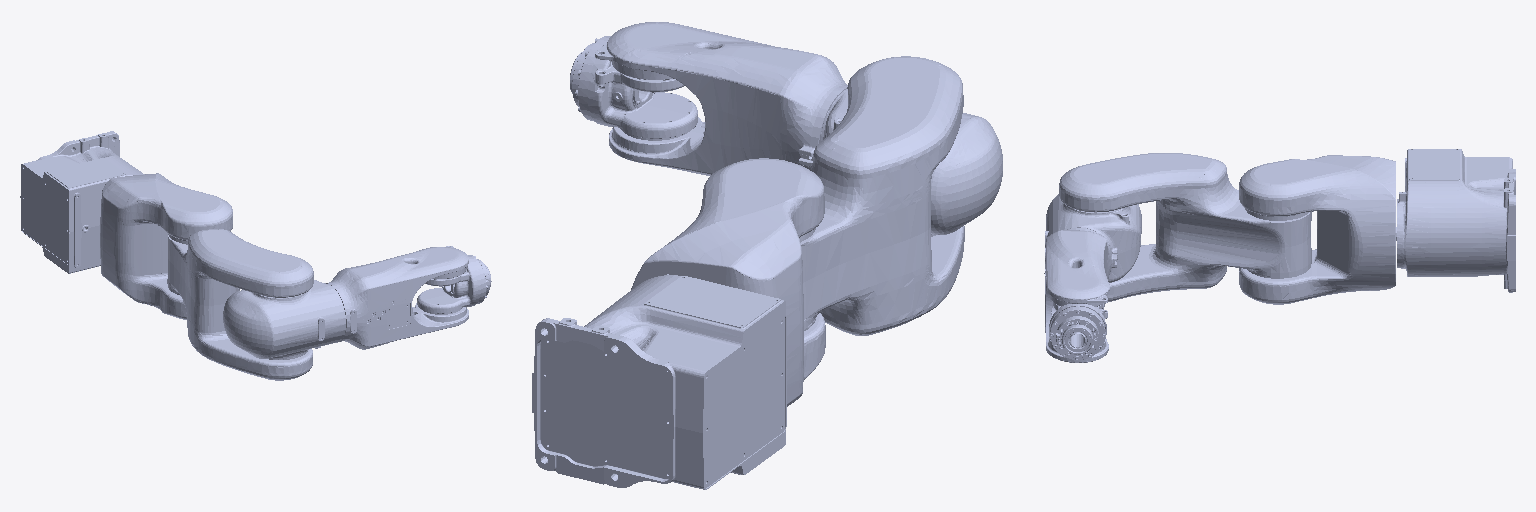
URDF robot description (pznachi):
<robot name="pznachi">
  <link name="Base_Link">
    <inertial>
      <origin xyz="-0.044712 -0.085819 -3.1195E-05" rpy="0 0 0" />
      <mass value="3.5167" />
      <inertia
        ixx="0.012401"
        ixy="0.00014279"
        ixz="4.9087E-06"
        iyy="0.013473"
        iyz="1.7125E-05"
        izz="0.015621" />
    </inertial>
    <visual>
      <origin xyz="0 0 0" rpy="0 0 0" />
      <geometry>
        <mesh filename="meshes/Base_Link.STL" />
      </geometry>
      <material name="">
        <color rgba="0.79216 0.81961 0.93333 1" />
      </material>
    </visual>
    <collision>
      <origin xyz="0 0 0" rpy="0 0 0" />
      <geometry>
        <mesh filename="meshes/Base_Link.STL" />
      </geometry>
    </collision>
  </link>
  <link name="Link1">
    <inertial>
      <origin xyz="-0.019704 0.00089628 0.11902" rpy="0 0 0" />
      <mass value="3.2922" />
      <inertia
        ixx="0.022238"
        ixy="-5.8161E-05"
        ixz="-0.0017628"
        iyy="0.01542"
        iyz="-0.00024604"
        izz="0.01508" />
    </inertial>
    <visual>
      <origin xyz="0 0 0" rpy="0 0 0" />
      <geometry>
        <mesh filename="meshes/Link1.STL" />
      </geometry>
      <material name="">
        <color rgba="0.79216 0.81961 0.93333 1" />
      </material>
    </visual>
    <collision>
      <origin
        xyz="0 0 0"
        rpy="0 0 0" />
      <geometry>
        <mesh
          filename="meshes/Link1.STL" />
      </geometry>
    </collision>
  </link>
  <joint
    name="J1"
    type="revolute">
    <origin
      xyz="0 -0.13764 0"
      rpy="1.5708 0.0078414 -4.8014E-19" />
    <parent
      link="Base_Link" />
    <child
      link="Link1" />
    <axis
      xyz="0 0 1" />
    <limit
      effort="0"
      velocity="0" />
  </joint>
  <link
    name="Link2">
    <inertial>
      <origin
        xyz="-0.022938 -0.00078377 0.12952"
        rpy="0 0 0" />
      <mass
        value="3.4347" />
      <inertia
        ixx="0.037509"
        ixy="6.1064E-05"
        ixz="0.00056234"
        iyy="0.030167"
        iyz="-0.00038733"
        izz="0.014052" />
    </inertial>
    <visual>
      <origin
        xyz="0 0 0"
        rpy="0 0 0" />
      <geometry>
        <mesh
          filename="meshes/Link2.STL" />
      </geometry>
      <material
        name="">
        <color
          rgba="0.79216 0.81961 0.93333 1" />
      </material>
    </visual>
    <collision>
      <origin
        xyz="0 0 0"
        rpy="0 0 0" />
      <geometry>
        <mesh
          filename="meshes/Link2.STL" />
      </geometry>
    </collision>
  </link>
  <joint
    name="J2"
    type="revolute">
    <origin
      xyz="0 0 0.20236"
      rpy="0 0 8.3267E-17" />
    <parent
      link="Link1" />
    <child
      link="Link2" />
    <axis
      xyz="0 1 0" />
    <limit
      effort="0"
      velocity="0" />
  </joint>
  <link
    name="Link3">
    <inertial>
      <origin
        xyz="-0.00019106 -0.000236 0.005569"
        rpy="0 0 0" />
      <mass
        value="1.7565" />
      <inertia
        ixx="0.0032287"
        ixy="7.0475E-06"
        ixz="-0.00027822"
        iyy="0.0052787"
        iyz="8.3236E-07"
        izz="0.0045758" />
    </inertial>
    <visual>
      <origin
        xyz="0 0 0"
        rpy="0 0 0" />
      <geometry>
        <mesh
          filename="meshes/Link3.STL" />
      </geometry>
      <material
        name="">
        <color
          rgba="0.79216 0.81961 0.93333 1" />
      </material>
    </visual>
    <collision>
      <origin
        xyz="0 0 0"
        rpy="0 0 0" />
      <geometry>
        <mesh
          filename="meshes/Link3.STL" />
      </geometry>
    </collision>
  </link>
  <joint
    name="J3"
    type="revolute">
    <origin
      xyz="0 0 0.26"
      rpy="0 -0.0069156 3.5505E-08" />
    <parent
      link="Link2" />
    <child
      link="Link3" />
    <axis
      xyz="0 1 0" />
    <limit
      effort="0"
      velocity="0" />
  </joint>
  <link
    name="Link4">
    <inertial>
      <origin
        xyz="0.097971 9.4676E-05 0.0031244"
        rpy="0 0 0" />
      <mass
        value="1.6439" />
      <inertia
        ixx="0.0030774"
        ixy="-1.5251E-05"
        ixz="5.8138E-05"
        iyy="0.0070292"
        iyz="3.7117E-07"
        izz="0.00829" />
    </inertial>
    <visual>
      <origin
        xyz="0 0 0"
        rpy="0 0 0" />
      <geometry>
        <mesh
          filename="meshes/Link4.STL" />
      </geometry>
      <material
        name="">
        <color
          rgba="0.79216 0.81961 0.93333 1" />
      </material>
    </visual>
    <collision>
      <origin
        xyz="0 0 0"
        rpy="0 0 0" />
      <geometry>
        <mesh
          filename="meshes/Link4.STL" />
      </geometry>
    </collision>
  </link>
  <joint
    name="J4"
    type="revolute">
    <origin
      xyz="0.079383 0 0.025"
      rpy="-0.019365 1.4745E-17 6.5226E-16" />
    <parent
      link="Link3" />
    <child
      link="Link4" />
    <axis
      xyz="1 0 0" />
    <limit
      effort="0"
      velocity="0" />
  </joint>
  <link
    name="Link5">
    <inertial>
      <origin
        xyz="0.020403 -0.0026384 -6.1975E-05"
        rpy="0 0 0" />
      <mass
        value="0.32675" />
      <inertia
        ixx="0.00031814"
        ixy="-2.4055E-05"
        ixz="2.2149E-07"
        iyy="0.00034511"
        iyz="6.3733E-07"
        izz="0.00043062" />
    </inertial>
    <visual>
      <origin
        xyz="0 0 0"
        rpy="0 0 0" />
      <geometry>
        <mesh
          filename="meshes/Link5.STL" />
      </geometry>
      <material
        name="">
        <color
          rgba="0.79216 0.81961 0.93333 1" />
      </material>
    </visual>
    <collision>
      <origin
        xyz="0 0 0"
        rpy="0 0 0" />
      <geometry>
        <mesh
          filename="meshes/Link5.STL" />
      </geometry>
    </collision>
  </link>
  <joint
    name="J5"
    type="revolute">
    <origin
      xyz="0.20062 0 0"
      rpy="-6.9389E-18 0.0018264 -1.3849E-15" />
    <parent
      link="Link4" />
    <child
      link="Link5" />
    <axis
      xyz="0 1 0" />
    <limit
      effort="0"
      velocity="0" />
  </joint>
  <link
    name="Link6">
    <inertial>
      <origin
        xyz="0.0072821 -5.8253E-05 -0.00022338"
        rpy="0 0 0" />
      <mass
        value="0.031021" />
      <inertia
        ixx="1.5737E-05"
        ixy="6.2399E-10"
        ixz="1.1782E-09"
        iyy="8.4458E-06"
        iyz="8.8516E-08"
        izz="8.6667E-06" />
    </inertial>
    <visual>
      <origin
        xyz="0 0 0"
        rpy="0 0 0" />
      <geometry>
        <mesh
          filename="meshes/Link6.STL" />
      </geometry>
      <material
        name="">
        <color
          rgba="0.79216 0.81961 0.93333 1" />
      </material>
    </visual>
    <collision>
      <origin
        xyz="0 0 0"
        rpy="0 0 0" />
      <geometry>
        <mesh
          filename="meshes/Link6.STL" />
      </geometry>
    </collision>
  </link>
  <joint
    name="J6"
    type="revolute">
    <origin
      xyz="0.061686 0.0011 0"
      rpy="0.019384 -2.5153E-17 1.8801E-15" />
    <parent
      link="Link5" />
    <child
      link="Link6" />
    <axis
      xyz="1 0 0" />
    <limit
      effort="0"
      velocity="0" />
  </joint>
</robot>

--- What the picture shows (computed from the rendered views, not written in the file) ---
3 views of the same robot in one strip: view 1: azimuth 30°, elevation 25°; view 2: azimuth 150°, elevation 25°; view 3: azimuth 270°, elevation 25° (orthographic).
Model pznachi with 7 links and 6 joints (6 revolute), rooted at Base_Link, posed all joints at 0.
Visible links, largest first — view 1: Link2, Link1, Base_Link, Link4, Link3, Link5; view 2: Base_Link, Link2, Link4, Link1, Link5, Link3; view 3: Link2, Link1, Base_Link, Link4, Link3, Link5, Link6.
Link boxes in pixels (bbox=[...]): Link2: bbox=[167, 229, 313, 380]; Link1: bbox=[100, 173, 232, 319]; Base_Link: bbox=[20, 131, 144, 273]; Link4: bbox=[326, 246, 468, 349]; Link3: bbox=[223, 280, 345, 359]; Link5: bbox=[417, 255, 487, 314]; Base_Link: bbox=[532, 274, 787, 489]; Link2: bbox=[801, 56, 964, 335]; Link4: bbox=[595, 22, 847, 175]; Link1: bbox=[631, 158, 825, 406]; Link5: bbox=[575, 36, 697, 140]; Link3: bbox=[819, 89, 1002, 236]; Link2: bbox=[1059, 153, 1311, 302]; Link1: bbox=[1239, 155, 1395, 304]; Base_Link: bbox=[1396, 149, 1515, 292]; Link4: bbox=[1044, 228, 1116, 362]; Link3: bbox=[1045, 194, 1141, 282]; Link5: bbox=[1049, 302, 1107, 360]; Link6: bbox=[1056, 316, 1098, 357].
Bounding box of the posed robot: 0.4905 × 0.675 × 0.1906 m (x, y, z).
Meshes: 7 distinct files referenced, 7 mesh visuals loaded (7 binary STL).
